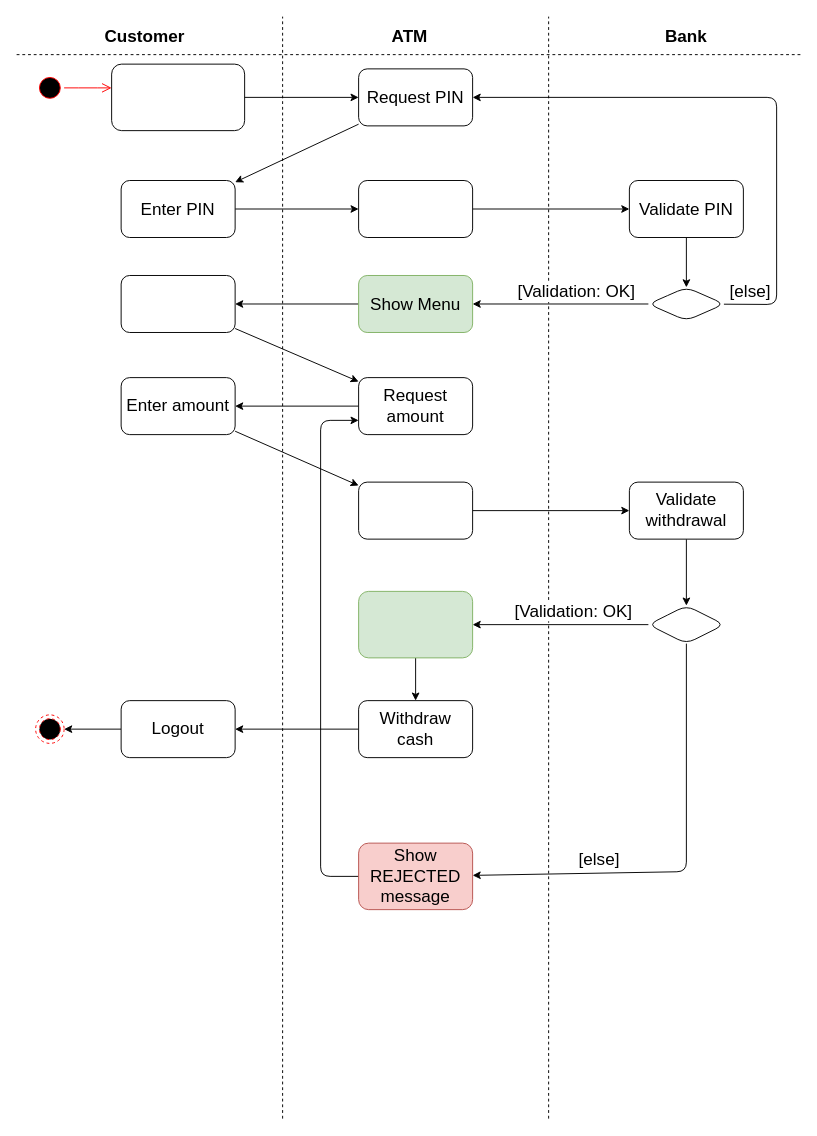
The diagram is 817 pixels wide and 1136 high, and some of its shapes have lost their labels. The centre of each missing label's shape, as x and y in pixels:
"Accept PIN" goes at (415,209).
"Check balance" goes at (415,510).
"Request authentication" goes at (178,97).
"Request withdraw" goes at (177,303).
"Show APPROVED message" goes at (415,624).
